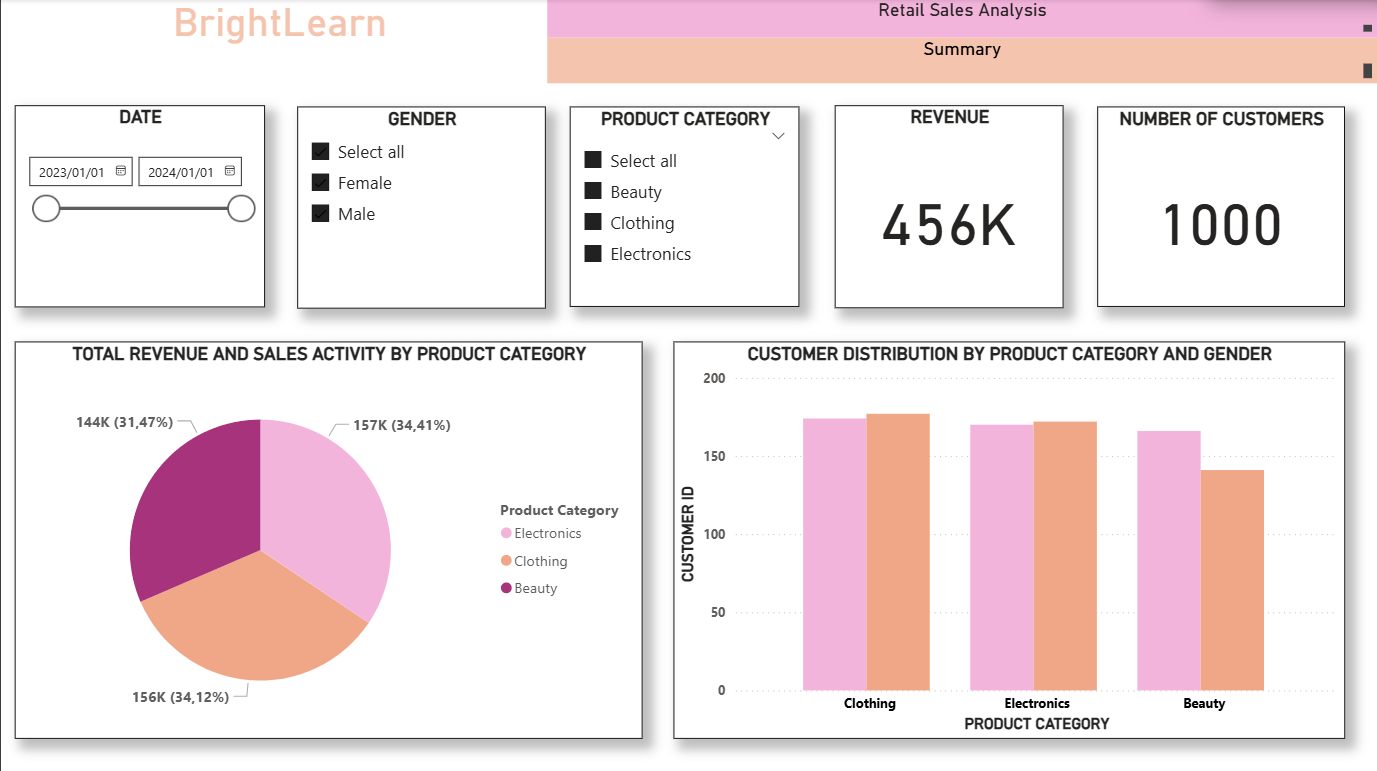

What the dashboard file says about the page in this screenshot:
{"tool":"powerbi","page":{"name":"Page 1","canvas":[1280,720],"ordinal":0},"visuals":[{"type":"textbox","title":"Retail Sales Analysis","box":[507.7,0,772.6,35.7],"z":0},{"type":"textbox","title":"Summary","box":[507.7,35.7,772.6,42.5],"z":1000},{"type":"textbox","title":"BrightLearn ","box":[70,0,380.1,78.2],"z":2000},{"type":"slicer","title":"DATE ","fields":{"Values":["retail_sales_dataset (1).Date"]},"box":[12.4,98.3,232.6,187.8],"z":3000},{"type":"slicer","title":"GENDER ","fields":{"Values":["retail_sales_dataset (1).Gender"]},"box":[276.2,99.5,231.4,187.8],"z":4000},{"type":"slicer","title":"PRODUCT CATEGORY","fields":{"Values":["retail_sales_dataset (1).Product Category"]},"box":[529.5,99.8,214,186.6],"z":5000},{"type":"card","title":"REVENUE","fields":{"Values":["Sum(retail_sales_dataset (1).Total Amount)"]},"box":[775.4,98.6,212.7,189.1],"z":6000},{"type":"card","title":"NUMBER OF CUSTOMERS","fields":{"Values":["Count(retail_sales_dataset (1).Customer ID)"]},"box":[1020,99.8,230.1,186.6],"z":7000},{"type":"pieChart","title":"TOTAL REVENUE AND SALES ACTIVITY BY PRODUCT CATEGORY","fields":{"Category":["retail_sales_dataset (1).Product Category"],"Y":["Sum(retail_sales_dataset (1).Total Amount)"]},"box":[12.8,318.6,583.7,369.8],"z":8000},{"type":"clusteredColumnChart","title":"CUSTOMER DISTRIBUTION BY PRODUCT CATEGORY AND GENDER ","fields":{"Y":["CountNonNull(retail_sales_dataset (1).Customer ID)"],"Category":["retail_sales_dataset (1).Product Category"],"Series":["retail_sales_dataset (1).Gender"]},"box":[625.6,318.6,624.4,369.8],"z":9000}]}

Visuals, with their boxes in screenshot pixels (x1, y1, x2, y2), scaled from the page's 1280x720 canvas onto the 1377x771 screenshot:
"Retail Sales Analysis" textbox: (left=546, top=0, right=1376, bottom=38)
"Summary" textbox: (left=546, top=38, right=1376, bottom=84)
"BrightLearn " textbox: (left=75, top=0, right=484, bottom=84)
"DATE " slicer: (left=13, top=105, right=264, bottom=306)
"GENDER " slicer: (left=297, top=107, right=546, bottom=308)
"PRODUCT CATEGORY" slicer: (left=570, top=107, right=800, bottom=307)
"REVENUE" card: (left=834, top=106, right=1063, bottom=308)
"NUMBER OF CUSTOMERS" card: (left=1097, top=107, right=1345, bottom=307)
"TOTAL REVENUE AND SALES ACTIVITY BY PRODUCT CATEGORY" pieChart: (left=14, top=341, right=642, bottom=737)
"CUSTOMER DISTRIBUTION BY PRODUCT CATEGORY AND GENDER " clusteredColumnChart: (left=673, top=341, right=1345, bottom=737)
